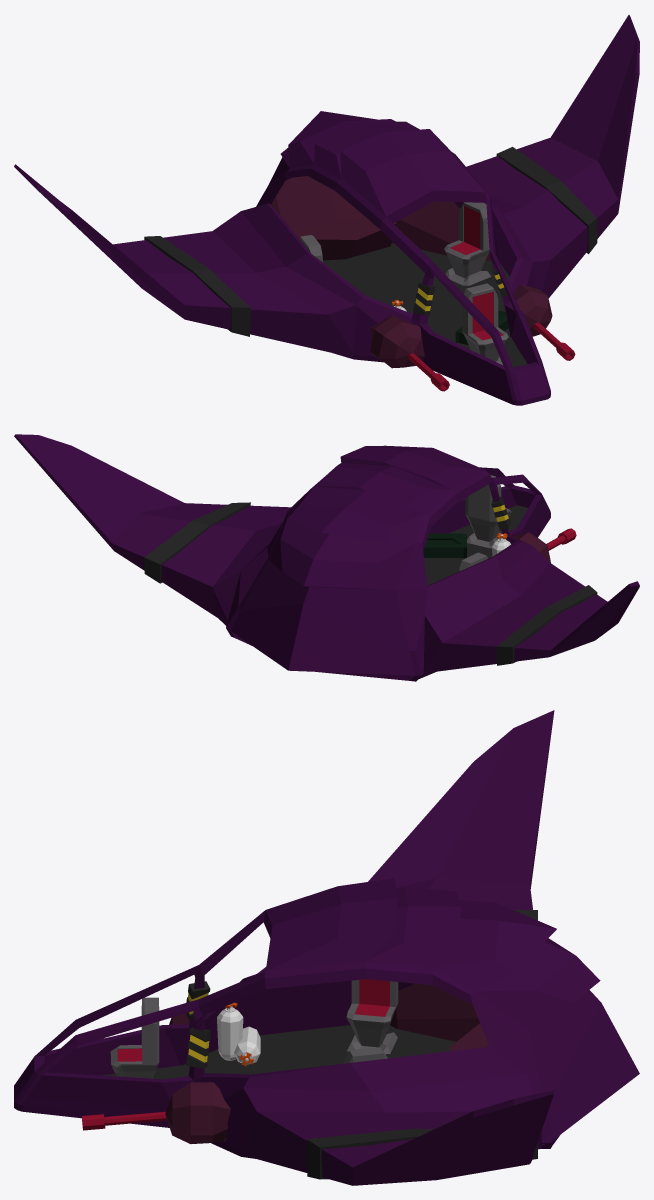
The model's file is ship.fbx.
3 views of the same model, one above another, from view 1: azimuth 30°, elevation 25°; view 2: azimuth 150°, elevation 25°; view 3: azimuth 270°, elevation 25° (orthographic). The views are drawn at different scales.
Parts seen in each view (by area): view 1: Cube, Cube.001, Cube.016, Sphere, Cube.003, Cube.002, Cube.005, Cube.015, Sphere.001, Cube.011, Cube.014; view 2: Cube, Cube.002, Cube.003, Cube.015, Cube.016, Cube.004, Sphere; view 3: Cube, Cube.016, Cube.001, Sphere.001, Cube.013, Cube.002, Cube.015, Cube.017, Cube.012, Cylinder.001, Cube.020.
Boxes of the visible parts, x1,y1,x2,y2 form: Cube: (14, 15, 639, 405); Cube.001: (271, 176, 491, 260); Cube.016: (323, 243, 527, 367); Sphere: (369, 315, 424, 368); Cube.003: (144, 236, 250, 336); Cube.002: (496, 147, 597, 254); Cube.005: (444, 202, 491, 285); Cube.015: (462, 283, 508, 364); Sphere.001: (510, 284, 552, 336); Cube.011: (450, 206, 480, 254); Cube.014: (472, 292, 502, 340); Cube: (14, 434, 639, 681); Cube.002: (144, 502, 250, 583); Cube.003: (496, 585, 597, 665); Cube.015: (465, 475, 511, 548); Cube.016: (424, 505, 527, 585); Cube.004: (423, 533, 466, 558); Sphere: (512, 532, 550, 562); Cube: (14, 710, 639, 1185); Cube.016: (101, 1025, 455, 1079); Cube.001: (390, 983, 544, 1144); Sphere.001: (165, 1082, 230, 1143); Cube.013: (346, 980, 398, 1054); Cube.002: (306, 1128, 537, 1179); Cube.015: (110, 997, 159, 1078); Cube.017: (217, 1006, 243, 1060); Cube.012: (355, 979, 389, 1016); Cylinder.001: (82, 1111, 166, 1130); Cube.020: (234, 1026, 260, 1064).
Bounding box in the file's own units: 4634 × 1148 × 3213.
